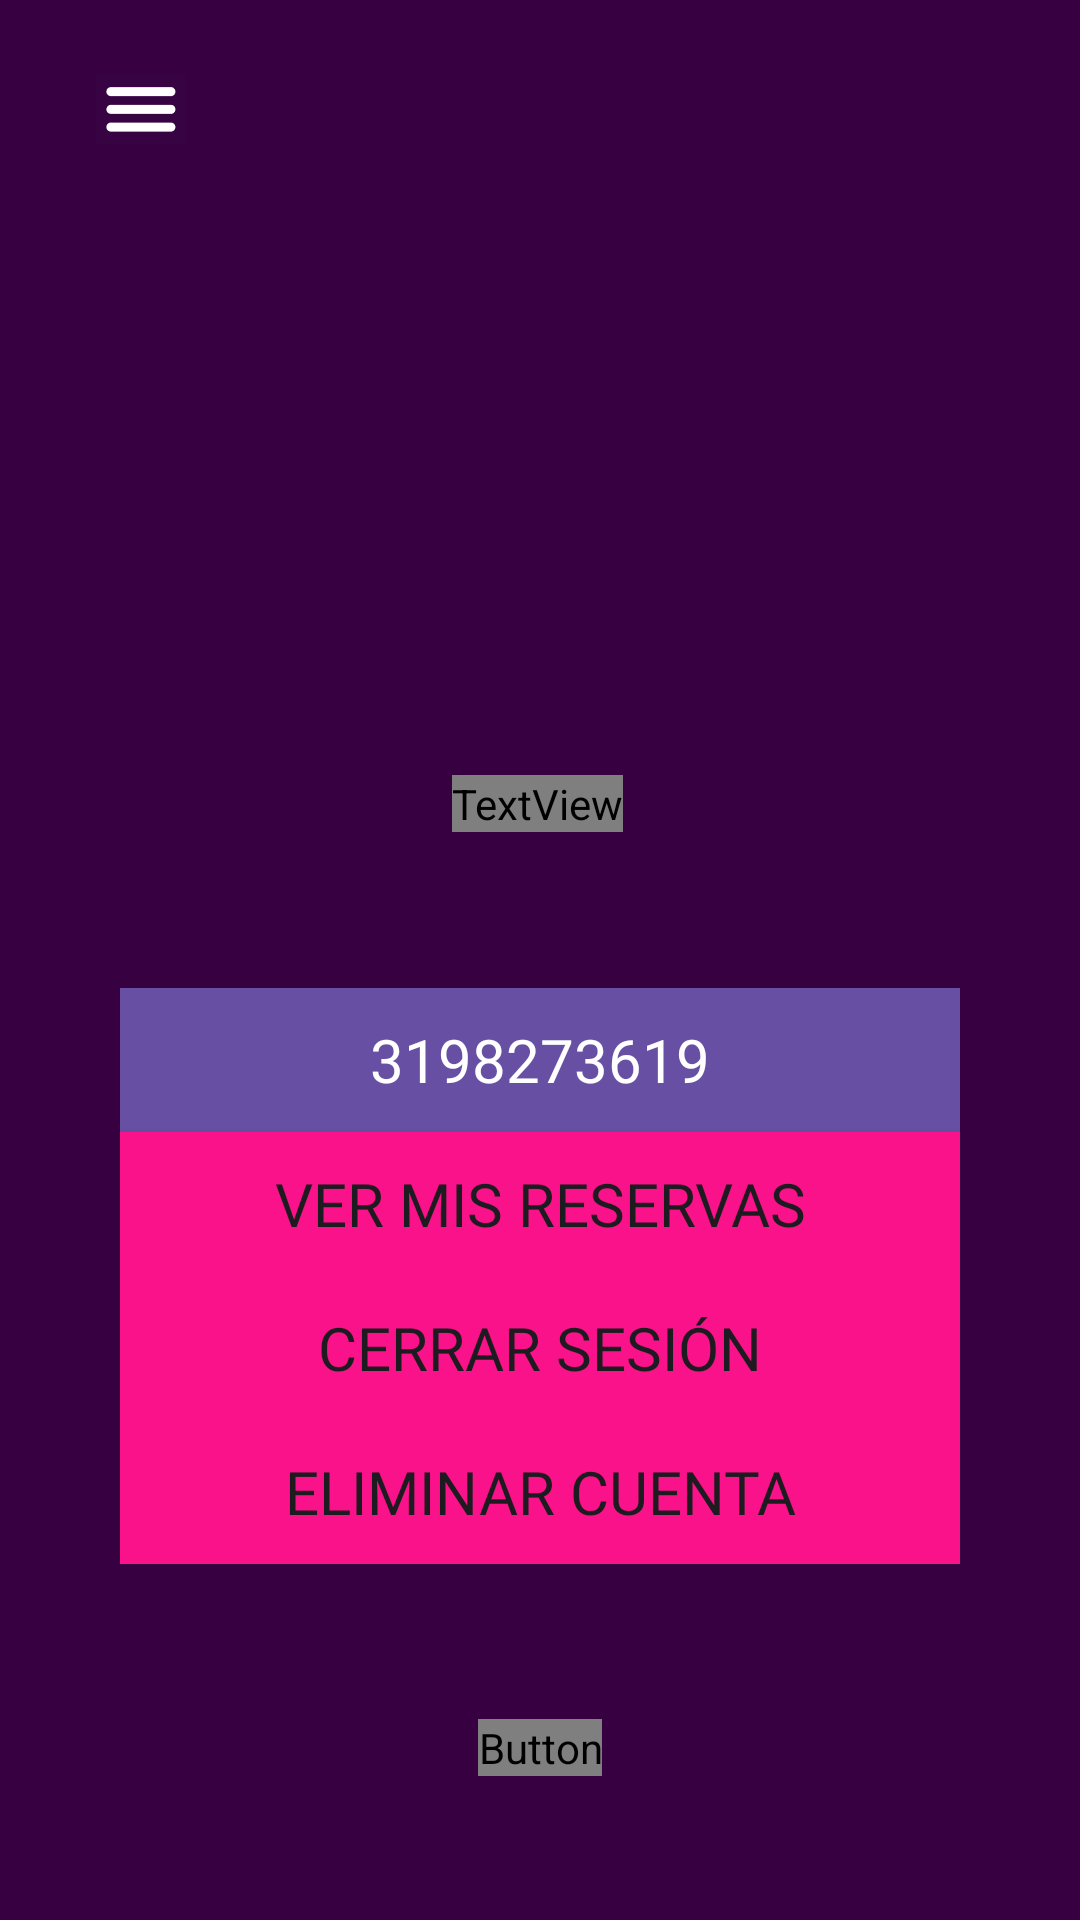

Where to tap for icons on this 1080 × 1920 app screen, as [x,y]:
menu: [141,109]
